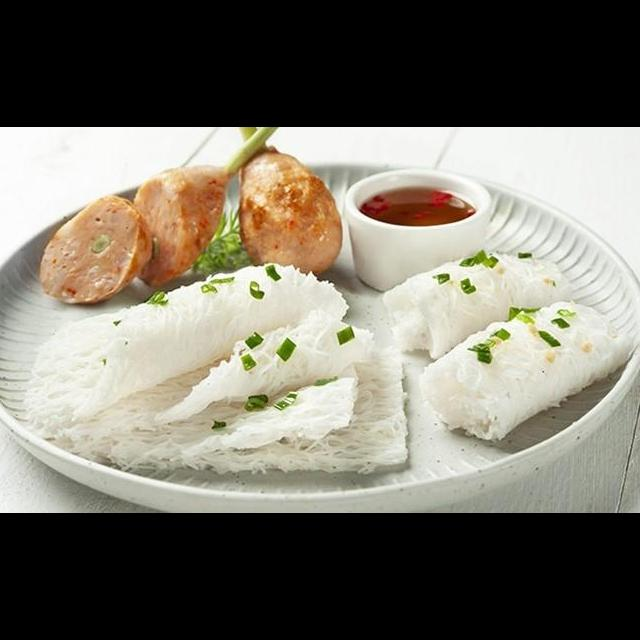banh hoi: (25, 315, 414, 477), (30, 258, 353, 426), (65, 305, 376, 461), (415, 297, 638, 449), (379, 247, 574, 364)
